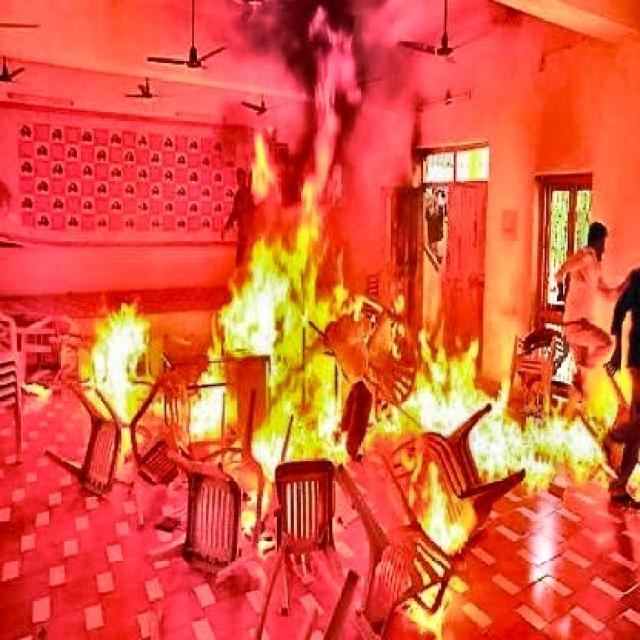fire: (66, 185, 626, 533)
